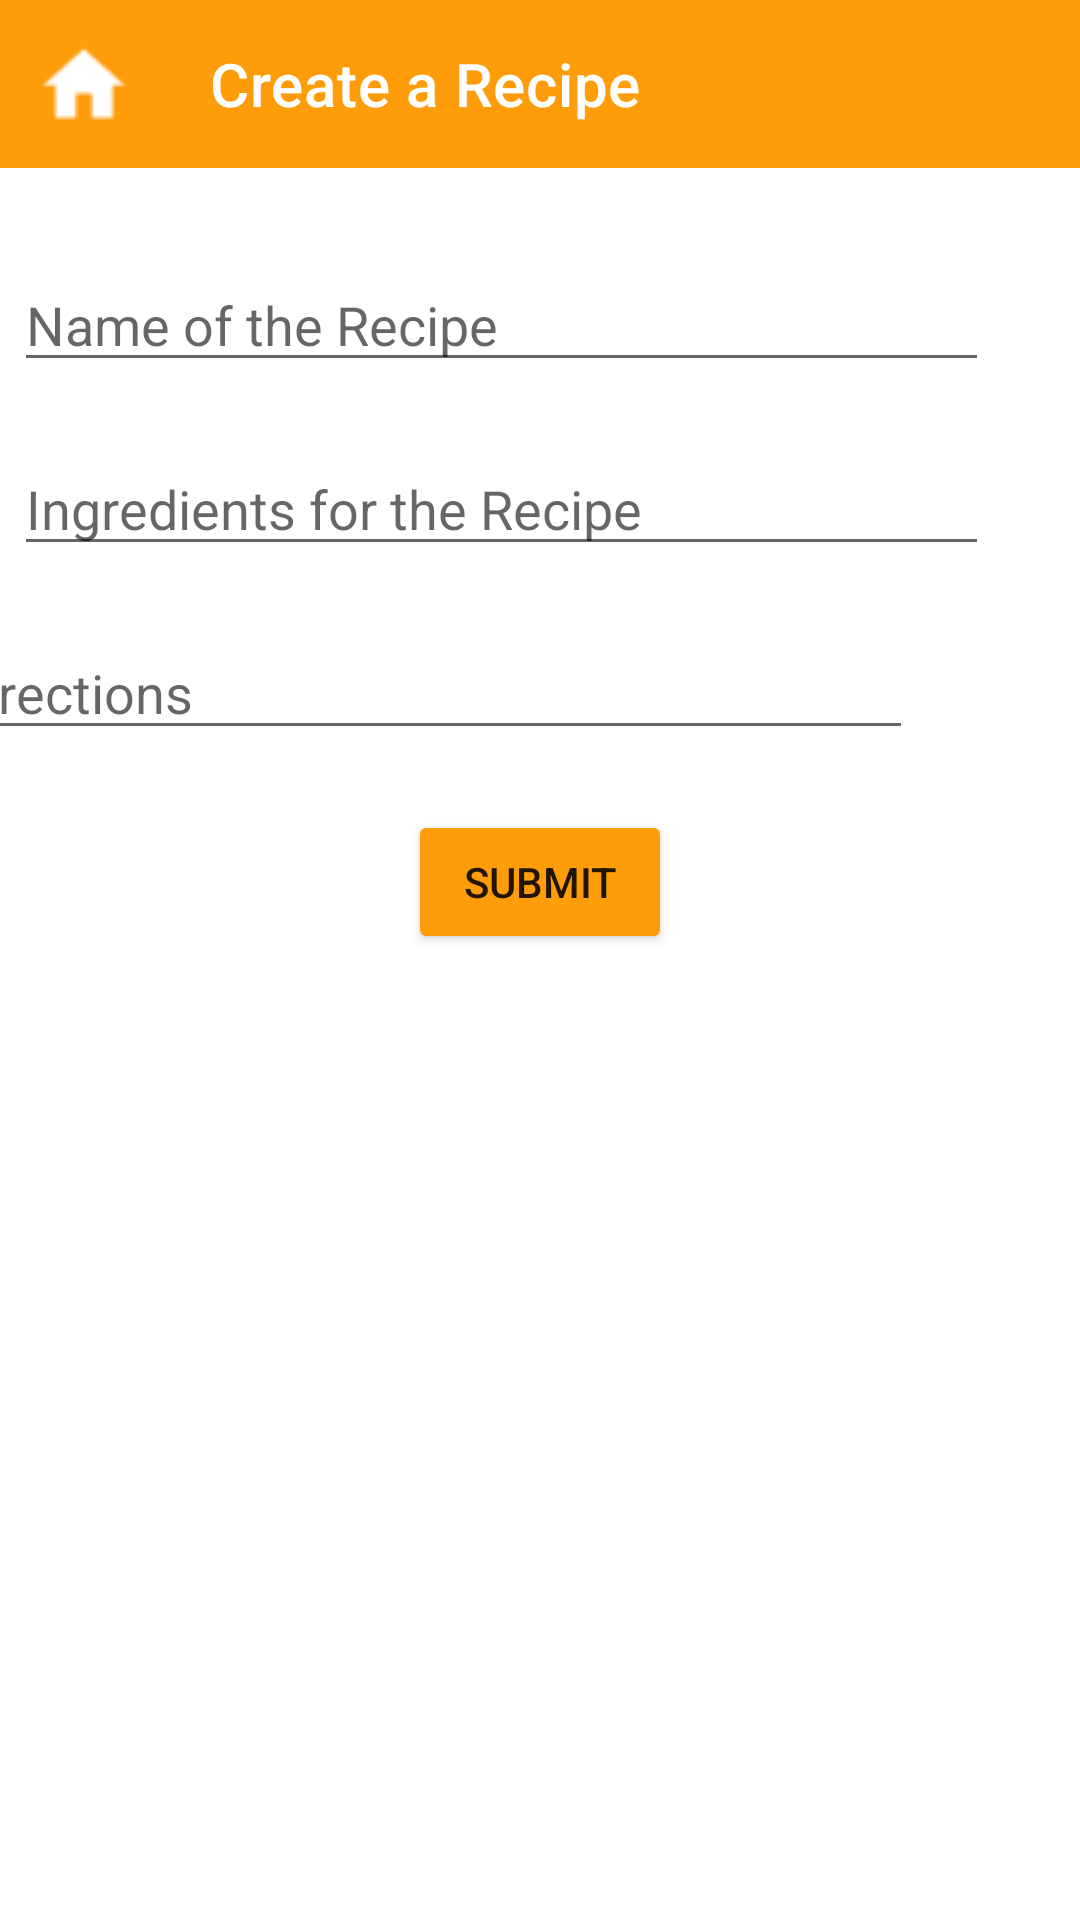

Locate icon controls on the screen. Image size 1080*1920, boxes as Rect(x1, y1, x2, y2).
home: Rect(42, 49, 125, 120)
